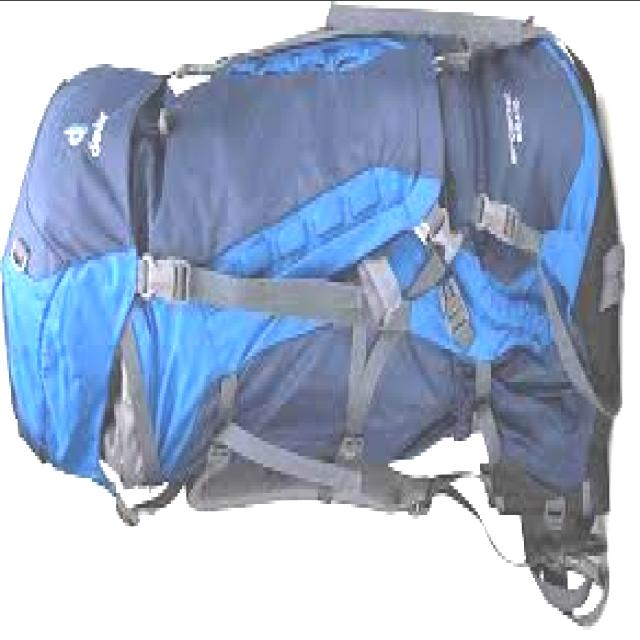backpack: (1, 5, 623, 630)
